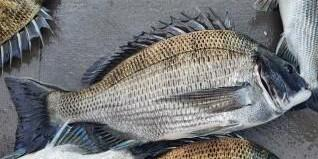fish: (2, 5, 315, 158)
